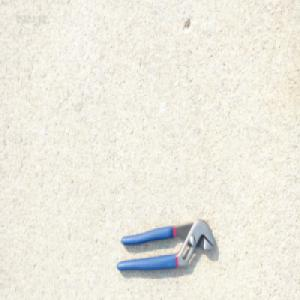Pliers: (115, 216, 216, 271)
